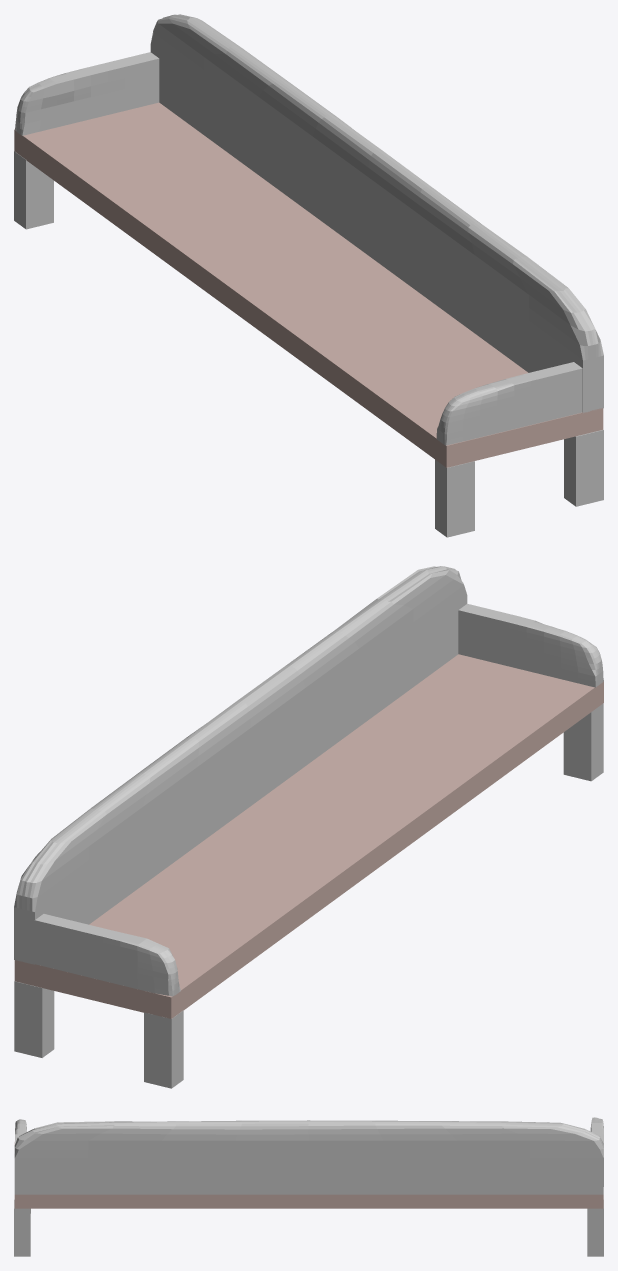
The model's file is ChurchBench.obj.
The picture shows the model from 3 angles, top to bottom: view 1: azimuth 30°, elevation 25°; view 2: azimuth 150°, elevation 25°; view 3: azimuth 270°, elevation 25°; orthographic projection. The views are drawn at different scales.
Parts seen in each view (by area): view 1: Bench, BackRest, LeftArmRest, RightArmRest, FRLeg, BRLeg, FLLeg; view 2: Bench, BackRest, LeftArmRest, RightArmRest, BLLeg, FLLeg, FRLeg; view 3: BackRest, Bench, BRLeg, BLLeg, LeftArmRest.
Part boxes in pixels (x1,y1,x2,y2): Bench: [14, 102, 603, 467]; BackRest: [150, 14, 603, 413]; LeftArmRest: [15, 52, 159, 135]; RightArmRest: [436, 362, 582, 445]; FRLeg: [435, 459, 474, 537]; BRLeg: [564, 429, 603, 506]; FLLeg: [14, 151, 53, 229]; Bench: [14, 654, 603, 1018]; BackRest: [14, 566, 467, 964]; LeftArmRest: [34, 914, 180, 996]; RightArmRest: [458, 603, 603, 687]; BLLeg: [14, 981, 54, 1057]; FLLeg: [144, 1010, 183, 1088]; FRLeg: [563, 703, 603, 781]; BackRest: [14, 1120, 603, 1194]; Bench: [14, 1142, 603, 1208]; BRLeg: [14, 1199, 30, 1256]; BLLeg: [587, 1200, 603, 1256]; LeftArmRest: [590, 1117, 603, 1186].
Size of the model in its own units: 4.88 by 5.7 by 23.13.
